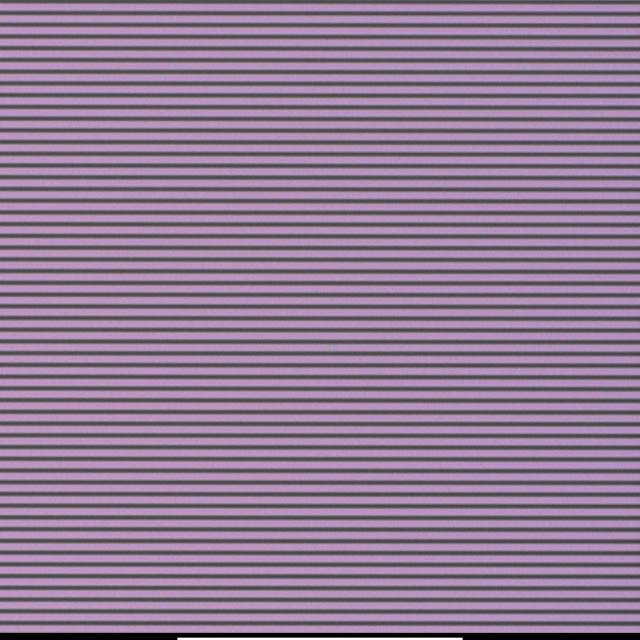nonvisual: (325, 343, 342, 356)
